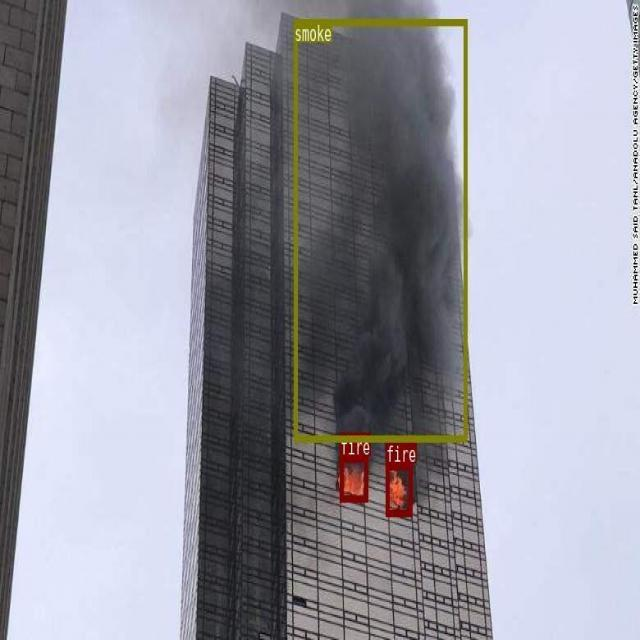fire: (385, 463, 411, 515), (339, 456, 367, 501)
smoke: (293, 19, 467, 440)
